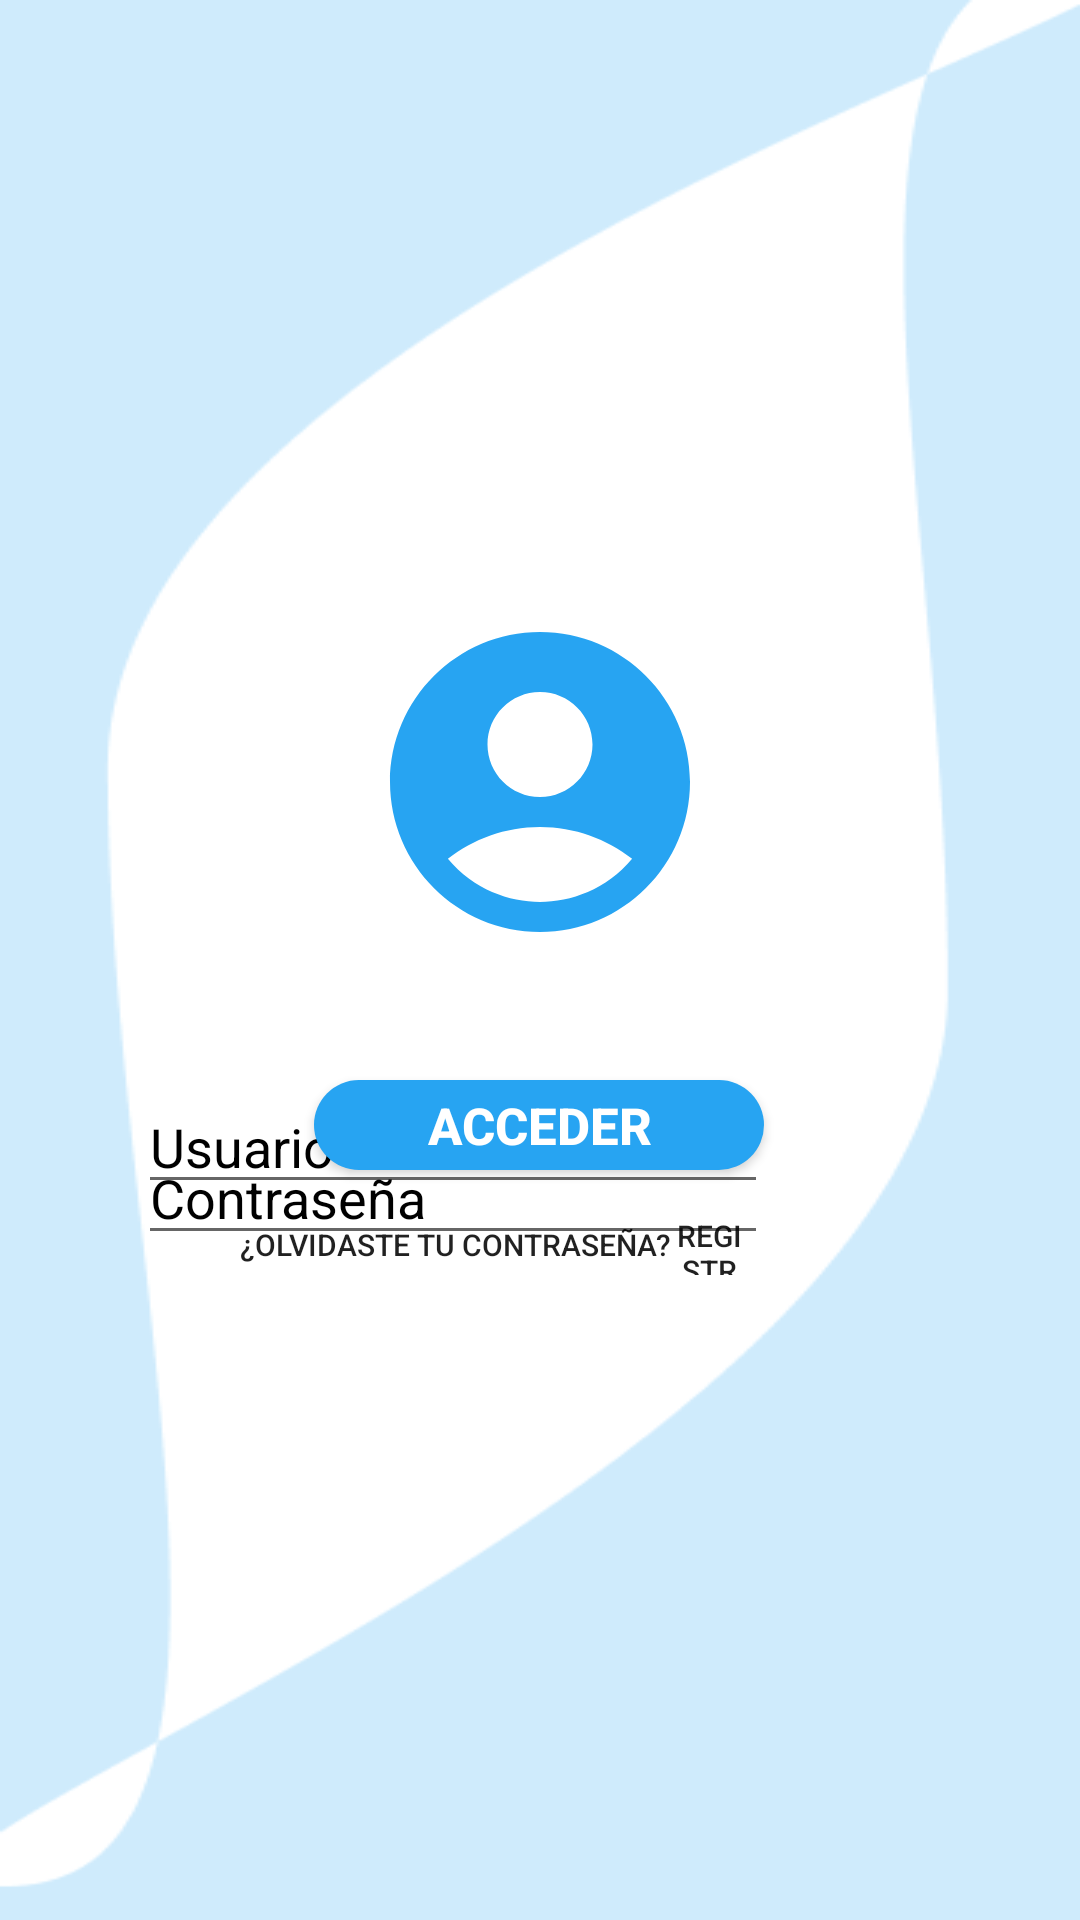

Named icons in this screenshot (1080w x 1920h) and their centers, (x,y):
account circle: (540,782)
